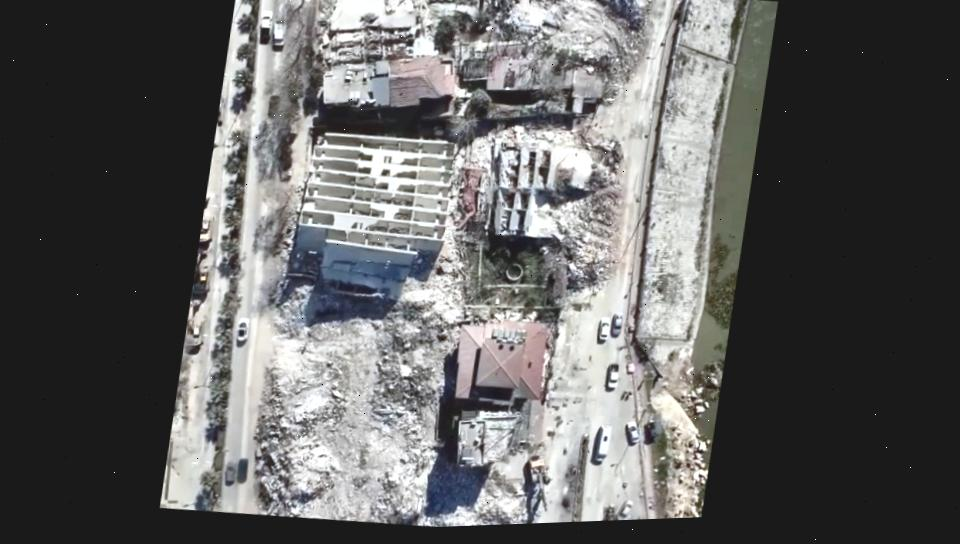kapali: (562, 116, 650, 313), (584, 0, 673, 120)
